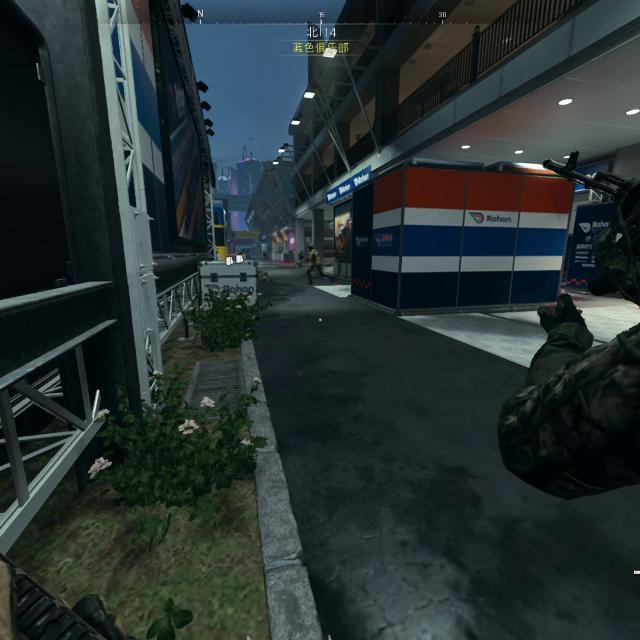MW2_body: (308, 247, 325, 282)
